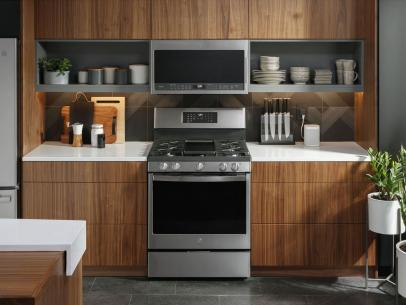stove: (152, 105, 254, 281)
